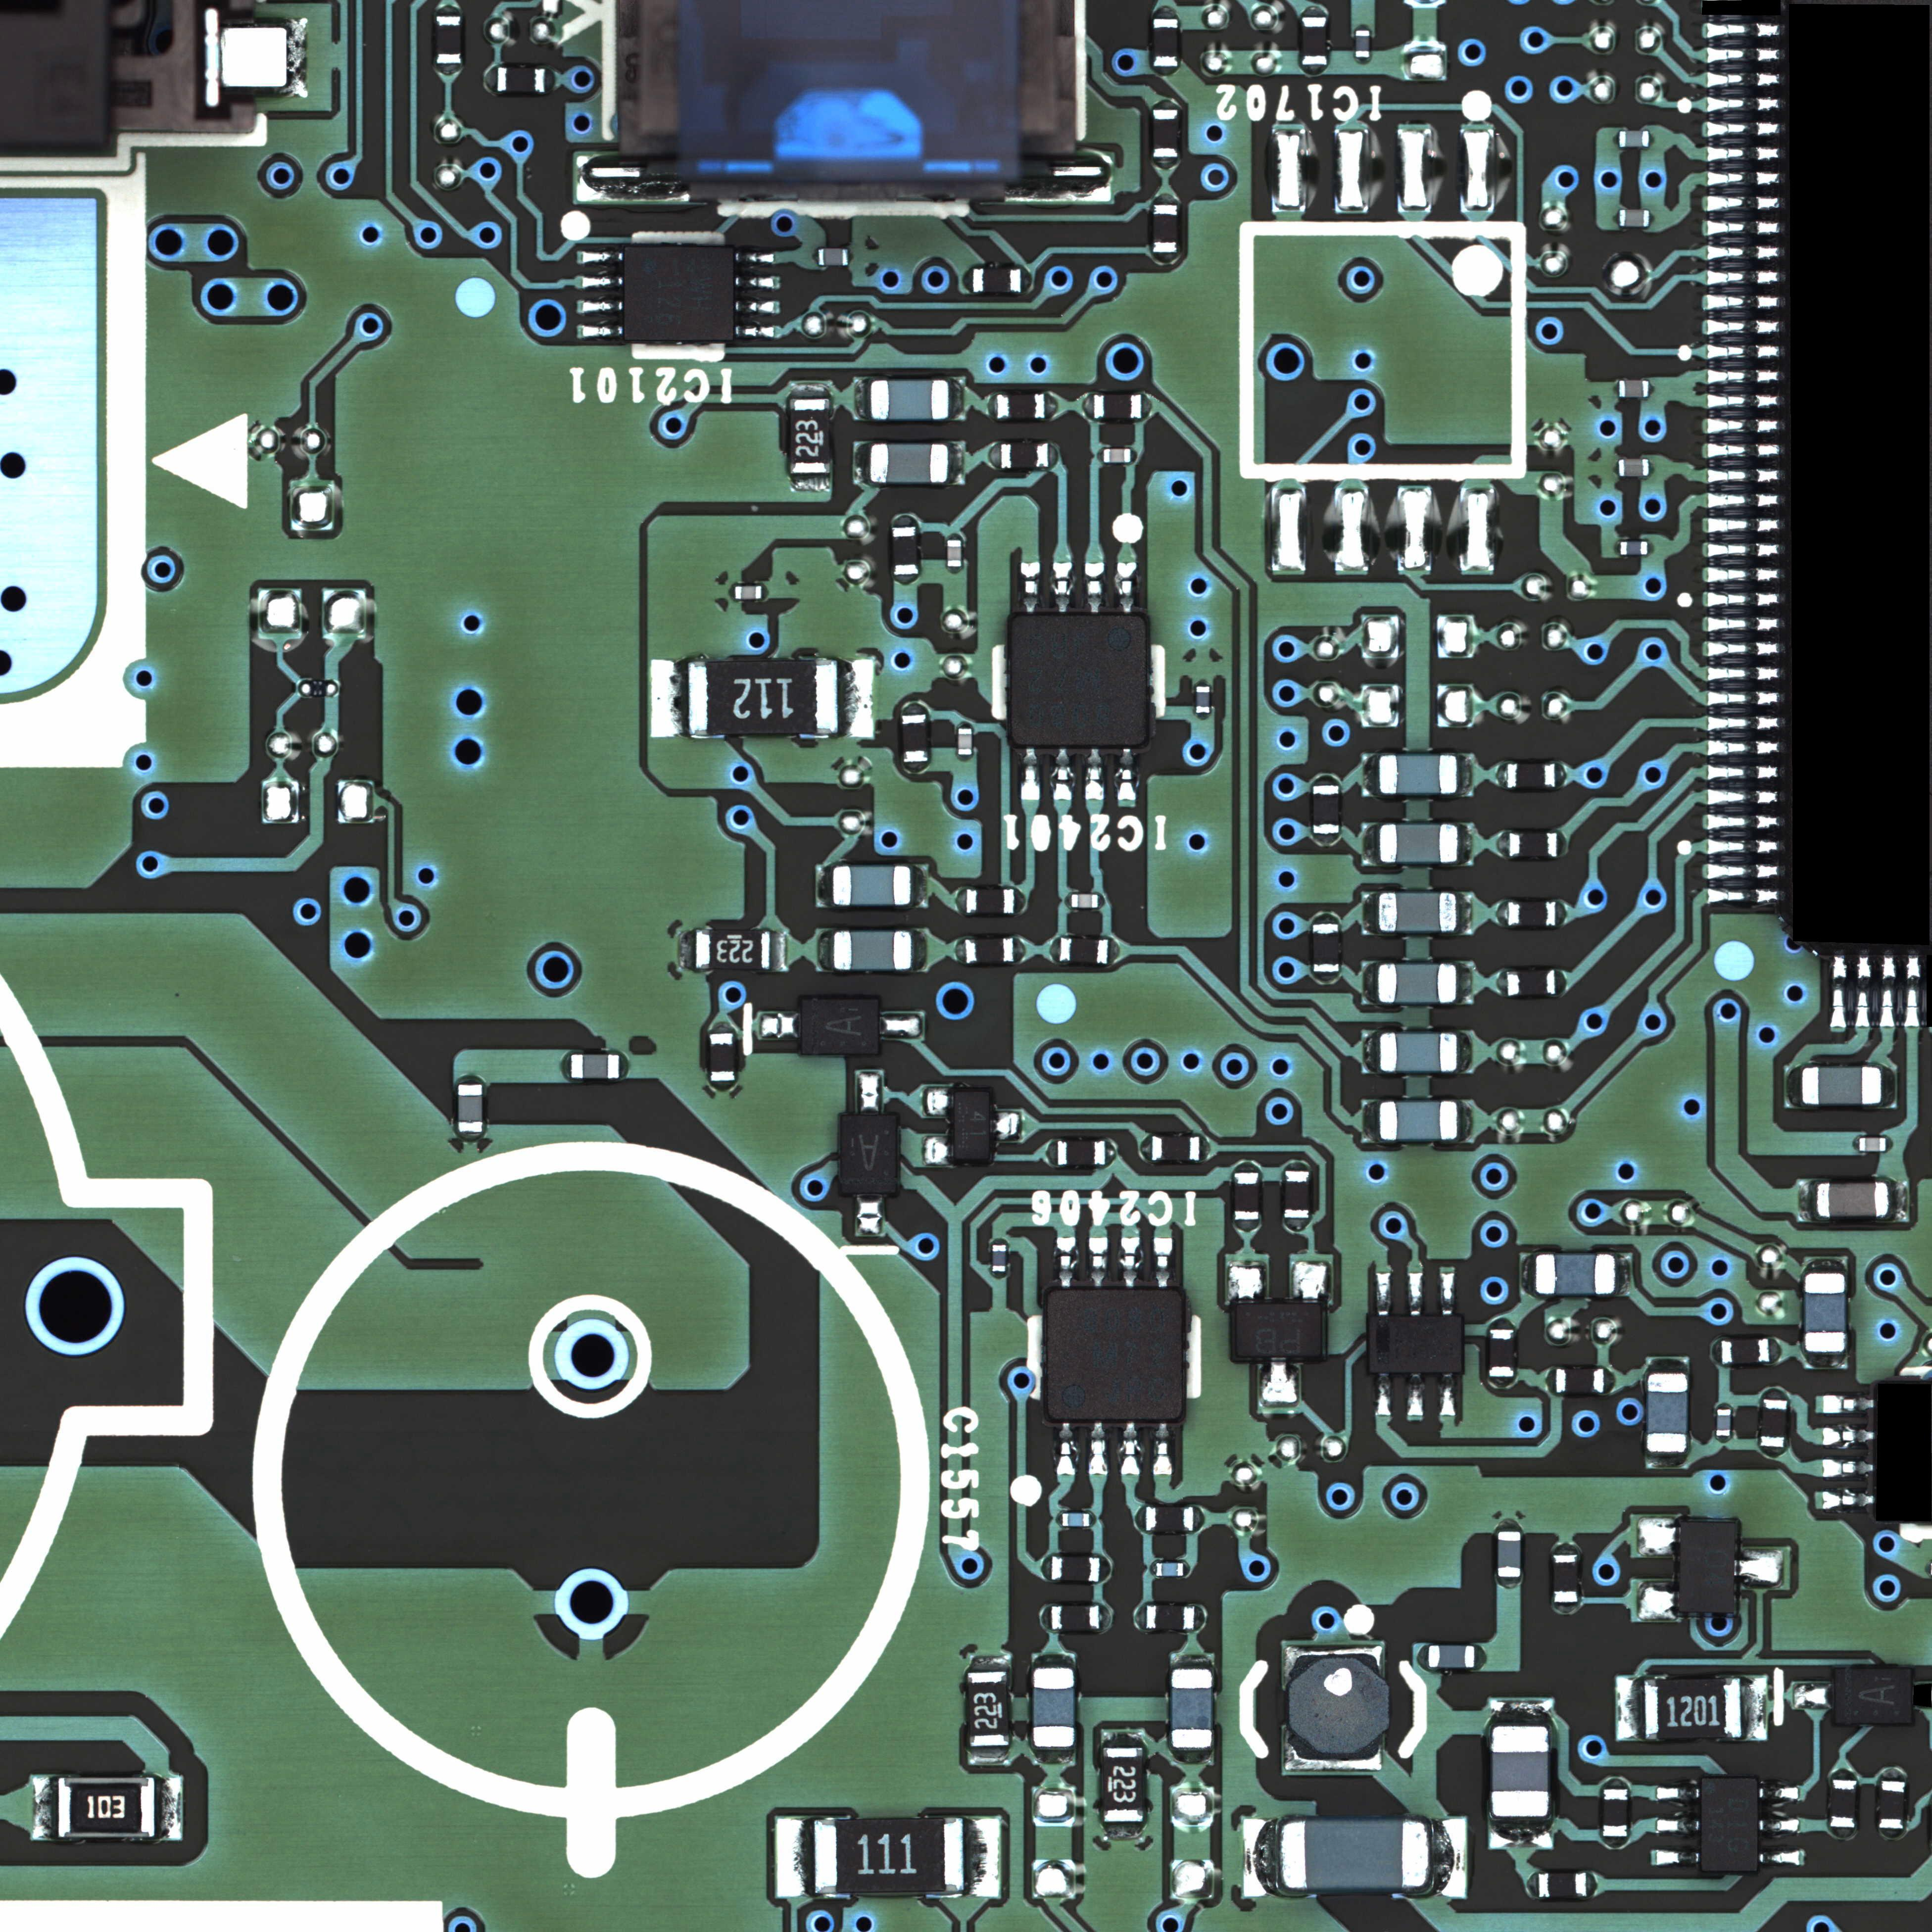Package: (1012, 616, 1146, 745), (1047, 1290, 1182, 1419), (814, 1819, 964, 1891), (690, 662, 837, 732), (1281, 1819, 1428, 1888), (625, 246, 734, 338), (1645, 1679, 1741, 1739), (60, 1778, 154, 1838), (1369, 1316, 1463, 1373), (1490, 1727, 1548, 1817), (1702, 1778, 1759, 1868), (1679, 1522, 1734, 1614), (1235, 1304, 1322, 1357), (801, 1000, 879, 1054), (1835, 1668, 1913, 1723), (842, 1116, 895, 1192), (1031, 1667, 1074, 1748), (1536, 1253, 1615, 1293), (1805, 1272, 1845, 1352), (870, 442, 948, 483), (1380, 823, 1458, 863), (1171, 1670, 1212, 1748), (1647, 1373, 1686, 1453), (1380, 754, 1456, 794), (1380, 892, 1456, 932), (833, 865, 909, 906), (835, 931, 911, 971), (870, 380, 948, 419), (1380, 1033, 1458, 1072), (1380, 1100, 1458, 1139), (968, 1672, 1008, 1746), (791, 398, 830, 474), (1380, 964, 1456, 1003), (1801, 1067, 1881, 1104), (1104, 1748, 1143, 1821), (697, 931, 770, 968), (1817, 1182, 1888, 1217), (954, 1090, 989, 1159), (1760, 1398, 1787, 1447), (892, 527, 918, 575), (1313, 786, 1339, 833), (1313, 924, 1339, 971), (1284, 1171, 1311, 1219), (1233, 1173, 1260, 1221), (1146, 1605, 1194, 1631), (1601, 1789, 1628, 1836), (964, 938, 1014, 962), (1060, 938, 1109, 962), (1150, 1136, 1200, 1161), (1056, 1141, 1106, 1166), (497, 67, 545, 92), (571, 1054, 619, 1079), (458, 1085, 483, 1132), (902, 715, 927, 763), (966, 890, 1014, 915), (1146, 1506, 1194, 1530), (1051, 1557, 1099, 1582), (1051, 1605, 1099, 1629), (1509, 832, 1557, 856), (1507, 901, 1555, 925), (1490, 1329, 1514, 1376), (1537, 1872, 1585, 1897), (1831, 1780, 1856, 1828), (1154, 18, 1177, 67), (996, 395, 1046, 418), (1095, 395, 1141, 419), (1507, 763, 1553, 787), (1553, 1555, 1578, 1601), (1879, 1782, 1904, 1828), (437, 16, 460, 64), (711, 1033, 734, 1081), (1154, 110, 1177, 157), (1154, 205, 1177, 253), (973, 269, 1021, 292), (1507, 971, 1555, 994), (1555, 1369, 1603, 1392), (1721, 1339, 1769, 1362), (1302, 18, 1325, 64), (1001, 444, 1047, 467), (1428, 1645, 1474, 1668), (1499, 1532, 1522, 1578), (819, 248, 847, 265), (1621, 209, 1649, 226), (1619, 380, 1649, 396), (1619, 460, 1649, 476), (1621, 131, 1649, 147), (1355, 30, 1369, 57), (947, 540, 961, 566), (1157, 1562, 1184, 1576), (1621, 541, 1647, 556), (736, 586, 761, 600), (1072, 893, 1097, 908), (993, 1246, 1007, 1270), (1063, 1513, 1088, 1527), (1716, 1410, 1730, 1435), (1104, 449, 1131, 462), (1196, 686, 1208, 713), (1859, 1138, 1886, 1150), (959, 729, 971, 754)
Solder: (775, 1817, 814, 1897), (1430, 1817, 1467, 1898), (839, 660, 876, 740), (651, 658, 688, 738), (964, 1817, 1000, 1898), (1244, 1819, 1279, 1897), (1488, 1817, 1553, 1849), (1260, 1357, 1300, 1407), (1734, 1550, 1783, 1589), (1615, 1675, 1644, 1741), (154, 1776, 182, 1840), (1226, 1260, 1267, 1304), (1292, 1261, 1332, 1304), (1490, 1698, 1553, 1725), (1637, 1518, 1679, 1557), (1637, 1582, 1679, 1621), (34, 1776, 58, 1840), (1741, 1677, 1766, 1739), (1706, 120, 1782, 138), (1706, 170, 1782, 188), (1706, 294, 1782, 311), (1707, 540, 1783, 557), (1707, 688, 1783, 706), (1707, 612, 1783, 630), (1707, 637, 1783, 655), (1707, 863, 1783, 881), (1707, 839, 1783, 856), (1707, 888, 1783, 906), (1707, 46, 1782, 64), (1707, 145, 1782, 163), (1707, 195, 1782, 212), (1707, 244, 1782, 262), (1707, 219, 1782, 237), (1707, 318, 1782, 336), (1709, 490, 1783, 508), (1829, 955, 1847, 1030), (1854, 955, 1872, 1030), (1877, 955, 1895, 1030), (1904, 955, 1921, 1030), (1706, 23, 1782, 39), (1706, 73, 1782, 88), (1707, 517, 1783, 533), (1707, 343, 1783, 359), (1707, 393, 1783, 409), (1707, 418, 1783, 433), (1707, 442, 1783, 458), (1707, 715, 1783, 731), (1707, 740, 1783, 755), (1707, 764, 1783, 780), (1707, 663, 1783, 679), (1706, 564, 1782, 580), (1706, 589, 1782, 605), (1707, 97, 1782, 113), (1707, 269, 1782, 285), (1709, 368, 1783, 384), (1709, 467, 1783, 483), (1707, 789, 1782, 805), (1707, 814, 1782, 830), (879, 1012, 924, 1039), (856, 1070, 883, 1115), (856, 1192, 883, 1235), (1822, 1490, 1875, 1511), (1154, 1419, 1173, 1476), (761, 1012, 801, 1039), (1792, 1683, 1833, 1709), (1021, 561, 1040, 616), (1116, 745, 1136, 800), (1085, 745, 1104, 800), (1053, 745, 1072, 800), (1021, 745, 1040, 800), (1120, 1421, 1139, 1476), (1088, 1421, 1108, 1476), (1056, 1421, 1076, 1476), (1053, 563, 1072, 616), (1085, 563, 1104, 616), (1116, 563, 1136, 616), (1056, 1237, 1076, 1290), (1088, 1237, 1108, 1290), (1120, 1237, 1139, 1290), (1154, 1237, 1173, 1290), (989, 1111, 1021, 1143), (1822, 1394, 1874, 1414), (1822, 1428, 1874, 1447), (1822, 1460, 1874, 1479), (922, 1136, 954, 1166), (924, 1086, 954, 1116), (771, 927, 789, 971), (1102, 1822, 1146, 1840), (1362, 1099, 1380, 1143), (1890, 1178, 1907, 1223), (1798, 1182, 1817, 1221), (1031, 1748, 1074, 1766), (1456, 892, 1474, 934), (1362, 823, 1380, 865), (1458, 1099, 1474, 1145), (1438, 1272, 1454, 1318), (1615, 1251, 1631, 1297), (679, 929, 697, 970), (968, 1746, 1008, 1764), (1102, 1732, 1146, 1748), (1458, 961, 1474, 1005), (1362, 961, 1378, 1005), (1440, 1373, 1456, 1417), (791, 474, 830, 492), (948, 379, 964, 421), (950, 442, 966, 485), (911, 865, 927, 908), (1458, 1031, 1474, 1074), (1364, 1031, 1380, 1074), (1458, 823, 1474, 865), (1362, 752, 1378, 794), (1458, 754, 1474, 796), (1375, 1373, 1391, 1415), (1805, 1352, 1847, 1368), (1656, 1851, 1702, 1865), (817, 929, 833, 970), (968, 1654, 1008, 1670), (1171, 1748, 1212, 1764), (1647, 1357, 1688, 1373), (1647, 1453, 1688, 1468), (855, 441, 869, 485), (1376, 1272, 1391, 1316), (1408, 1272, 1422, 1316), (855, 379, 869, 421), (817, 863, 832, 906), (1031, 1652, 1074, 1667), (1408, 1373, 1422, 1415), (1522, 1253, 1536, 1295), (1882, 1065, 1897, 1108), (1787, 1065, 1801, 1108), (582, 299, 623, 313), (582, 324, 623, 338), (913, 931, 927, 971), (1171, 1654, 1212, 1668), (1364, 893, 1378, 934), (1805, 1258, 1845, 1272), (1759, 1851, 1799, 1865), (1656, 1819, 1702, 1831), (1656, 1787, 1702, 1799), (582, 251, 623, 264), (582, 276, 623, 288), (1759, 1787, 1799, 1799), (1759, 1819, 1799, 1831), (736, 326, 775, 338), (736, 301, 775, 313), (791, 384, 830, 396), (736, 278, 775, 288), (1284, 1219, 1311, 1233), (483, 65, 497, 90), (1879, 1767, 1904, 1782), (736, 253, 775, 262), (435, 64, 462, 76), (1046, 393, 1058, 419), (904, 763, 931, 775), (1014, 936, 1026, 962), (1081, 393, 1093, 419), (1047, 936, 1060, 962), (1099, 1557, 1111, 1583), (1555, 901, 1568, 927), (1555, 970, 1568, 996), (1313, 833, 1339, 846), (1769, 1338, 1782, 1364), (545, 67, 557, 92), (989, 444, 1001, 469), (709, 1021, 734, 1033), (711, 1081, 736, 1093), (1154, 5, 1178, 18), (1154, 157, 1178, 170), (1235, 1221, 1260, 1233), (1555, 763, 1568, 787), (1495, 763, 1507, 787), (1497, 832, 1509, 856), (1495, 901, 1507, 925), (1495, 971, 1507, 996), (1490, 1376, 1514, 1389), (1497, 1518, 1522, 1530), (1415, 1644, 1428, 1668), (1603, 1836, 1628, 1849), (1023, 265, 1033, 294), (561, 1051, 571, 1079), (1109, 936, 1120, 964), (1201, 1134, 1212, 1162), (456, 1132, 485, 1143), (435, 4, 462, 14), (962, 267, 973, 294), (1016, 888, 1026, 915), (619, 1053, 630, 1079), (1300, 5, 1327, 16), (1141, 393, 1152, 419), (1106, 1141, 1116, 1168), (1046, 1139, 1056, 1166), (1139, 1134, 1150, 1161), (1134, 1506, 1145, 1532), (1196, 1605, 1207, 1631), (1136, 1605, 1146, 1631), (1100, 1605, 1111, 1631), (1040, 1605, 1051, 1631), (1557, 832, 1568, 858), (1313, 913, 1339, 924), (1313, 775, 1339, 786), (1605, 1368, 1615, 1394), (1587, 1872, 1598, 1898), (1601, 1778, 1628, 1789), (1047, 444, 1058, 469), (893, 515, 918, 525), (893, 575, 918, 586), (902, 702, 927, 713), (954, 936, 964, 961), (1302, 65, 1327, 76), (1154, 193, 1178, 203), (1154, 253, 1178, 264), (1194, 1506, 1205, 1530), (1040, 1555, 1051, 1580), (1490, 1318, 1514, 1329), (1497, 1578, 1522, 1589), (1553, 1543, 1578, 1553), (1553, 1603, 1578, 1614), (1527, 1872, 1537, 1897), (1762, 1447, 1787, 1458), (1831, 1769, 1856, 1780), (1476, 1645, 1486, 1668), (1711, 1339, 1721, 1362), (1881, 1829, 1904, 1840), (1831, 1828, 1854, 1838), (1233, 1162, 1260, 1171), (1313, 973, 1339, 982), (1760, 1389, 1787, 1398), (456, 1074, 483, 1083), (1154, 67, 1178, 76), (987, 395, 996, 418), (955, 890, 964, 913), (1154, 99, 1177, 108), (1546, 1369, 1555, 1392), (1284, 1162, 1309, 1169), (947, 566, 962, 575), (1063, 893, 1072, 909), (1649, 458, 1656, 478), (812, 248, 819, 265), (1612, 129, 1619, 147), (1649, 209, 1656, 226), (1716, 1435, 1730, 1444), (763, 584, 770, 600), (727, 584, 734, 600), (1099, 893, 1106, 909), (991, 1237, 1007, 1244), (1090, 1511, 1097, 1527), (1056, 1511, 1063, 1527), (1184, 1560, 1191, 1576), (1150, 1560, 1157, 1576), (1355, 58, 1371, 65), (1612, 380, 1619, 396), (1647, 540, 1654, 556), (1614, 540, 1621, 556), (1886, 1136, 1893, 1152), (1852, 1136, 1859, 1152), (849, 248, 855, 267), (947, 533, 961, 540), (959, 755, 973, 763), (1131, 448, 1138, 462), (1196, 713, 1210, 720), (993, 1272, 1007, 1279), (1355, 23, 1369, 30), (1651, 129, 1656, 147), (1651, 380, 1656, 398), (1614, 460, 1619, 478), (1614, 211, 1619, 226), (957, 722, 971, 727), (1097, 448, 1102, 462), (1196, 679, 1210, 685), (1716, 1403, 1730, 1408)
